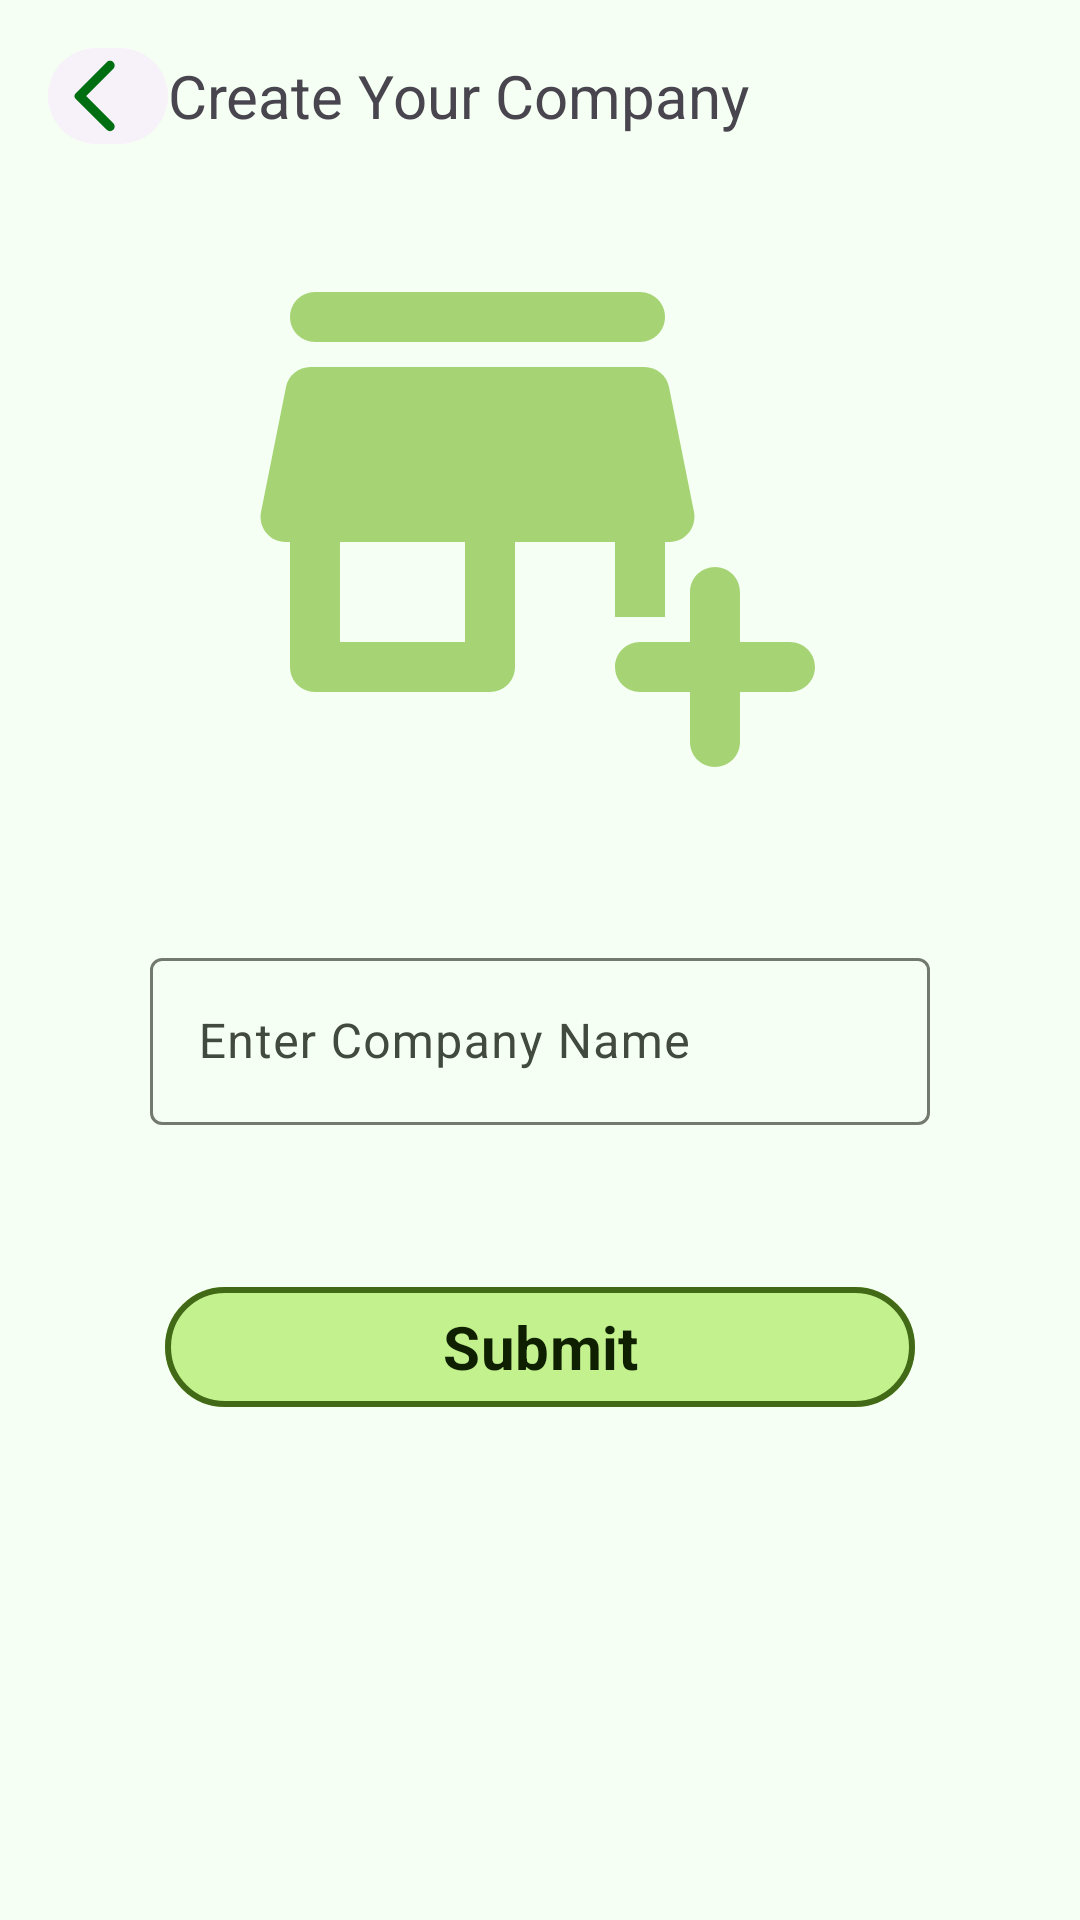

Screen size 1080px×1920px. Icon name, then its box in pixels as (x1, y1, x2, y2):
back: (48, 48, 168, 144)
